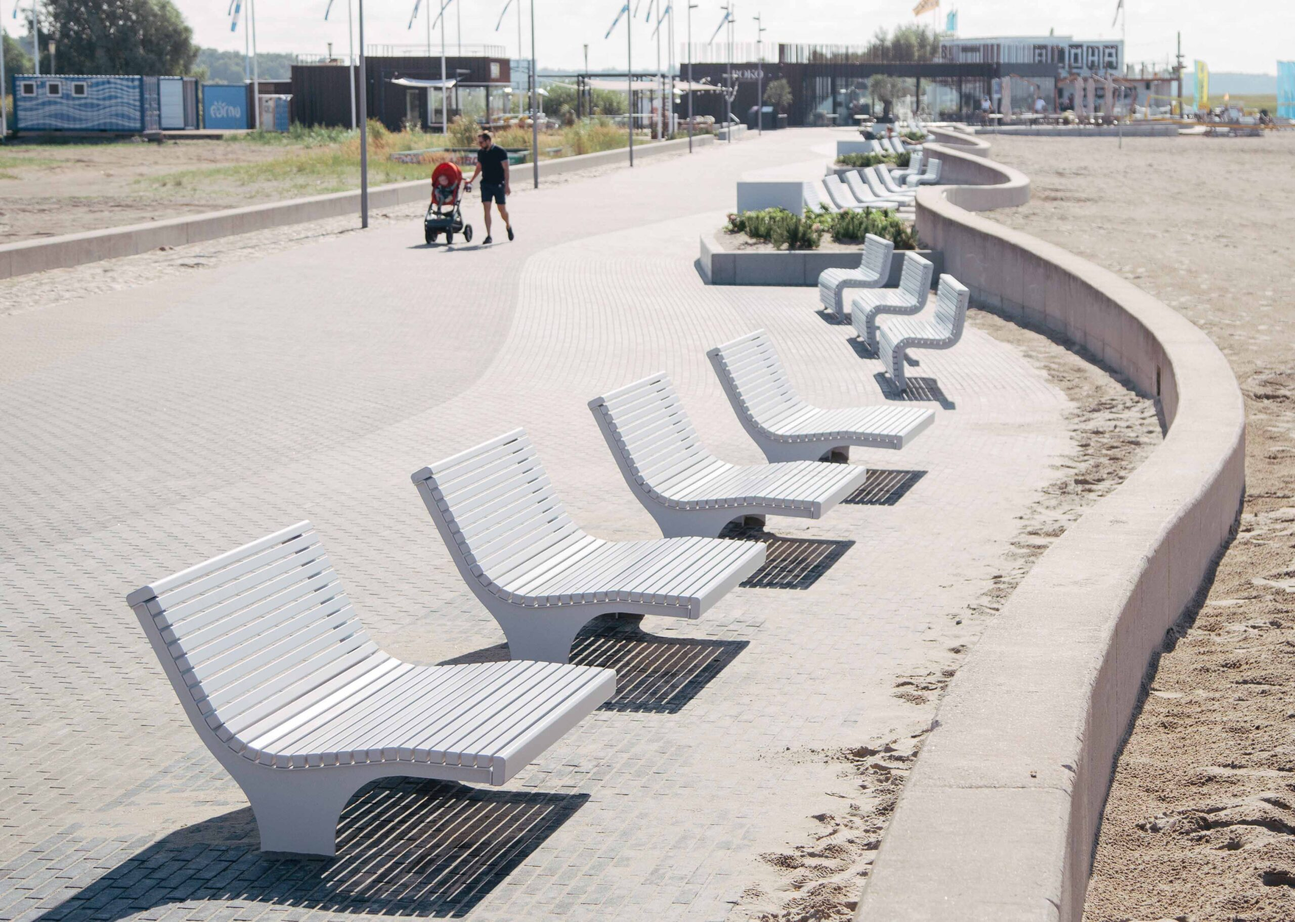Chair: (107, 517, 611, 860), (376, 419, 776, 673), (552, 368, 882, 563)
Person: (460, 133, 523, 247)
